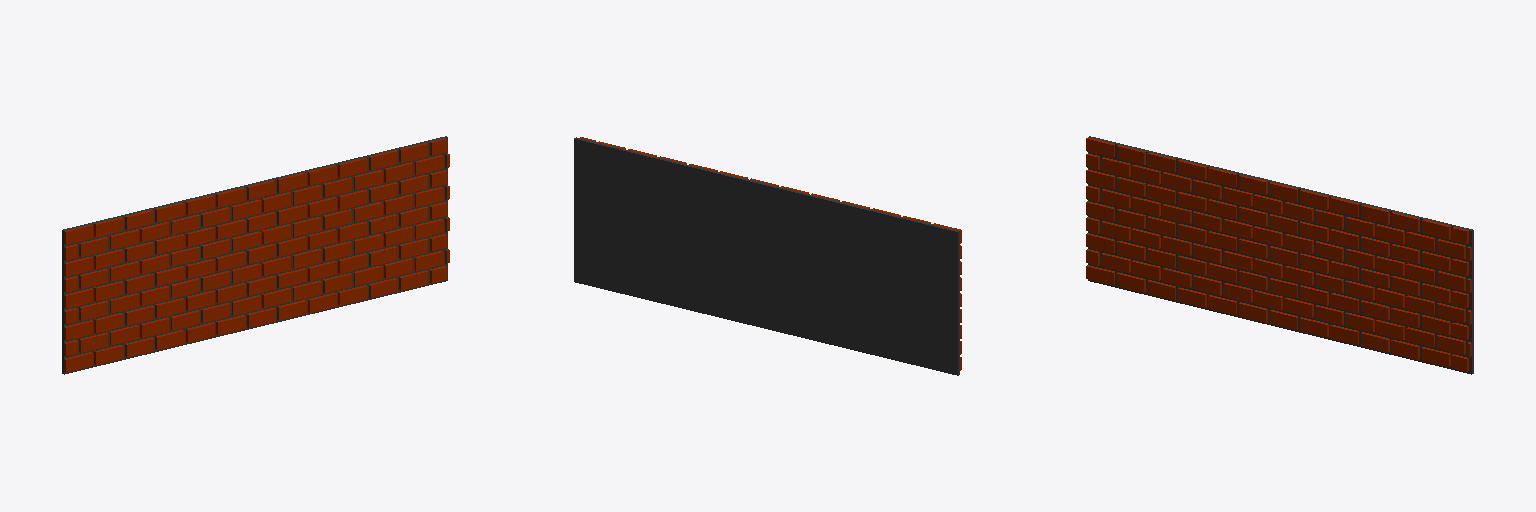
3 views of the same model, side by side, from view 1: azimuth 30°, elevation 25°; view 2: azimuth 150°, elevation 25°; view 3: azimuth 330°, elevation 25° (orthographic).
Parts seen in each view (by area): view 1: object 1; view 2: object 1; view 3: object 1.
Part boxes in pixels (left/top/right/bottom): object 1: left=62, top=136, right=449, bottom=374; object 1: left=574, top=137, right=961, bottom=375; object 1: left=1086, top=136, right=1473, bottom=374.
Size of the model in its own units: 12.6 by 4.5 by 0.2.
1 materials, 1 textured.